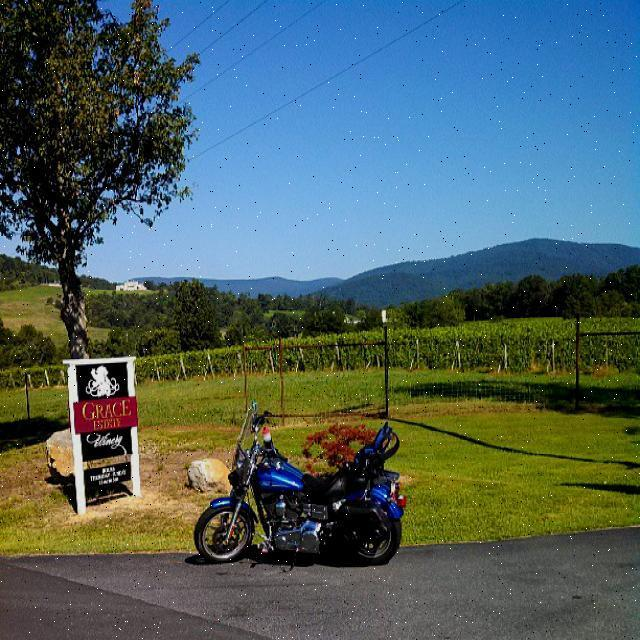motorcycle: (189, 402, 414, 572)
